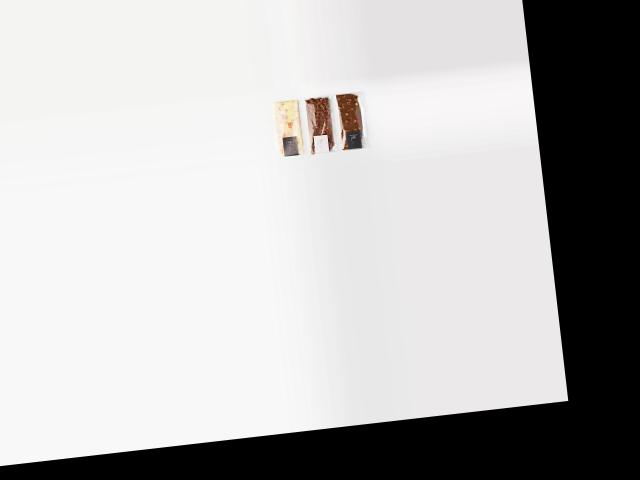chocolate: (332, 85, 374, 149)
